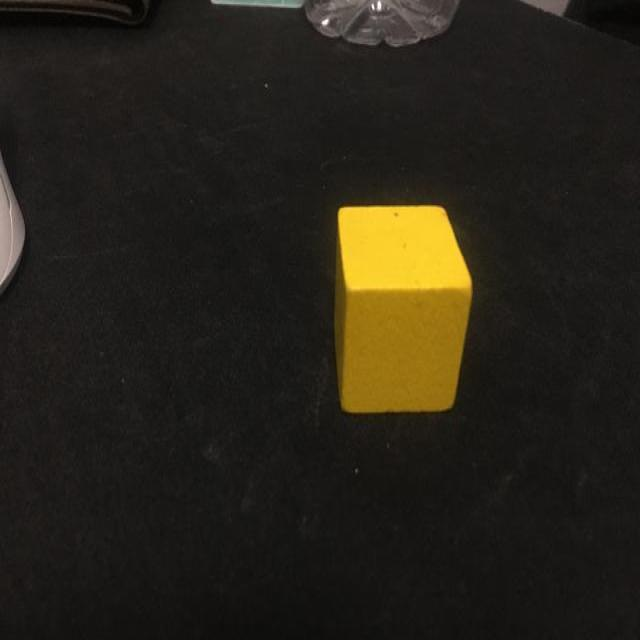yellow: (335, 206, 472, 411)
